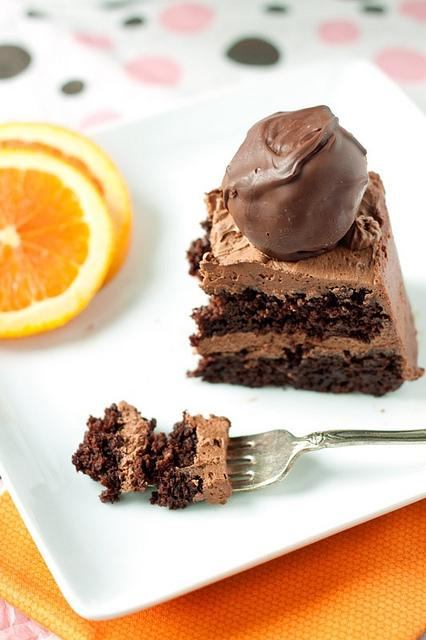orange: (0, 120, 134, 294), (0, 147, 115, 339)
